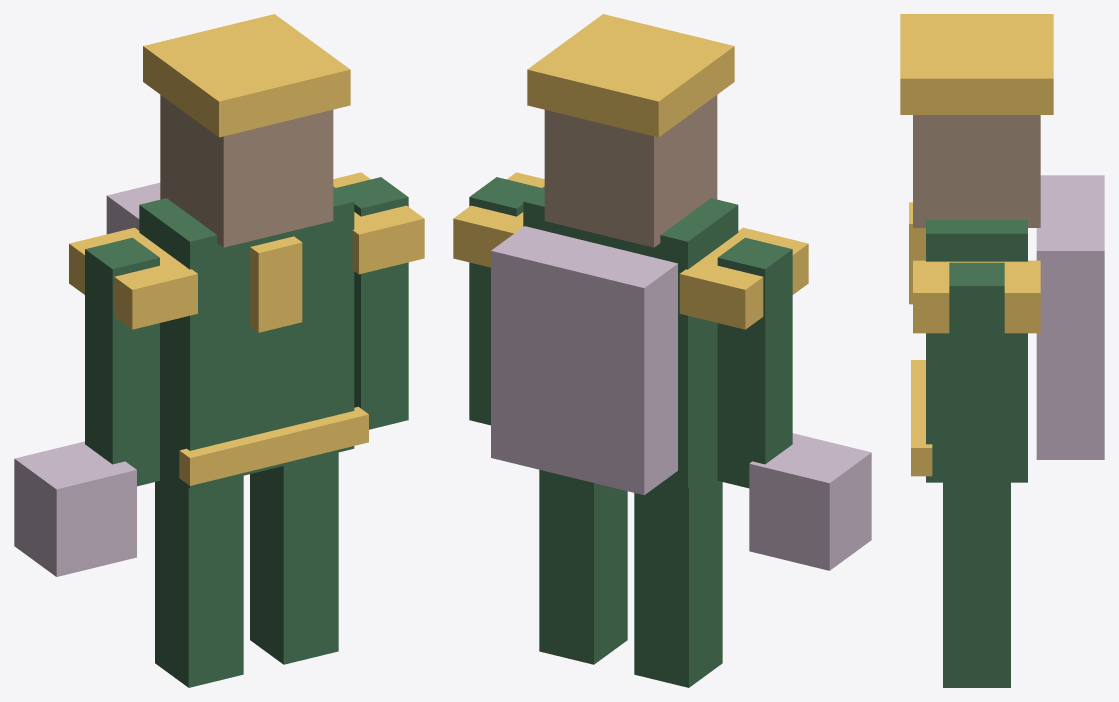
Rendered from 04_edda_rootborne_responder_near_battle.glb.
The picture shows the model from 3 angles, left to right: view 1: azimuth 30°, elevation 25°; view 2: azimuth 150°, elevation 25°; view 3: azimuth 270°, elevation 25°; orthographic projection.
Parts seen in each view (by area): view 1: Edda Rootborne, Responder near Battle; view 2: Edda Rootborne, Responder near Battle; view 3: Edda Rootborne, Responder near Battle.
Part boxes in pixels (<box>): Edda Rootborne, Responder near Battle: <box>14,14,424,687</box>; Edda Rootborne, Responder near Battle: <box>453,14,871,687</box>; Edda Rootborne, Responder near Battle: <box>900,14,1104,687</box>.
Bounding box in the file's own units: 0.9234 × 1.46 × 0.4455.
